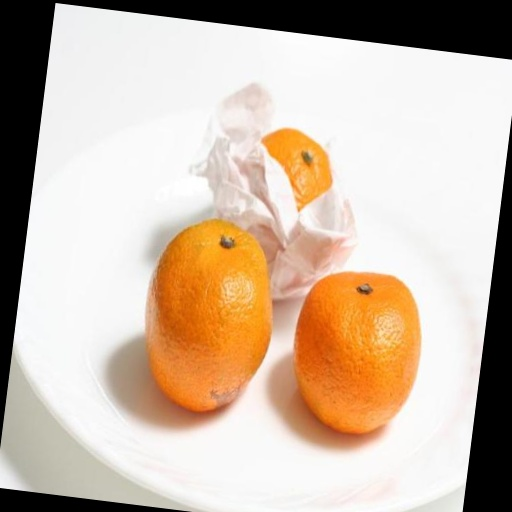fruit: (146, 220, 272, 411), (294, 272, 421, 433), (262, 128, 332, 210)
